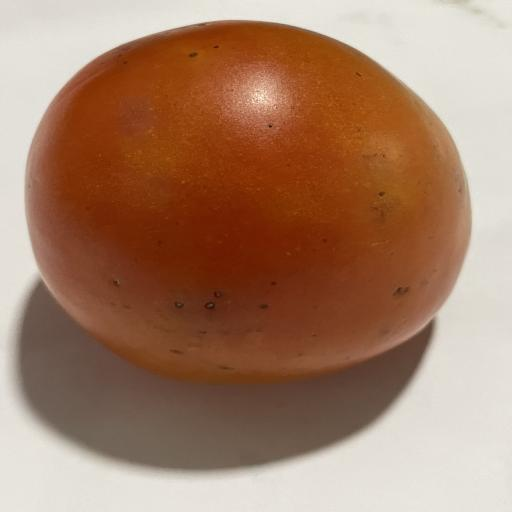ripe: (26, 21, 471, 382)
